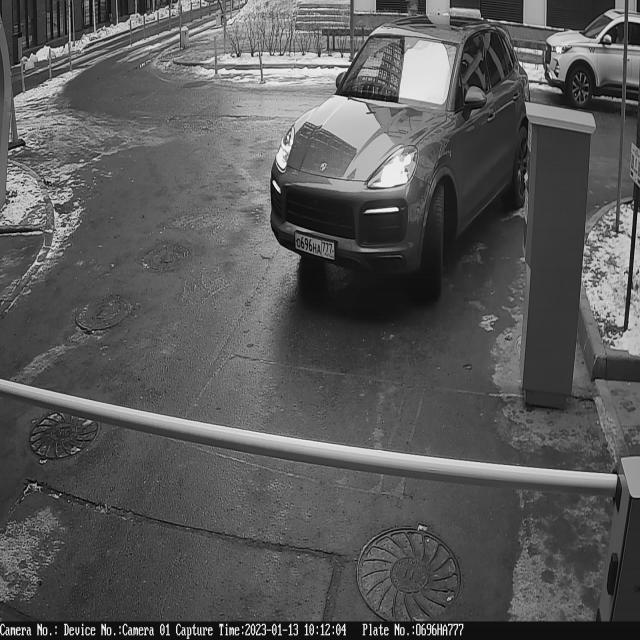car-plate-numbers: (293, 228, 339, 266)
